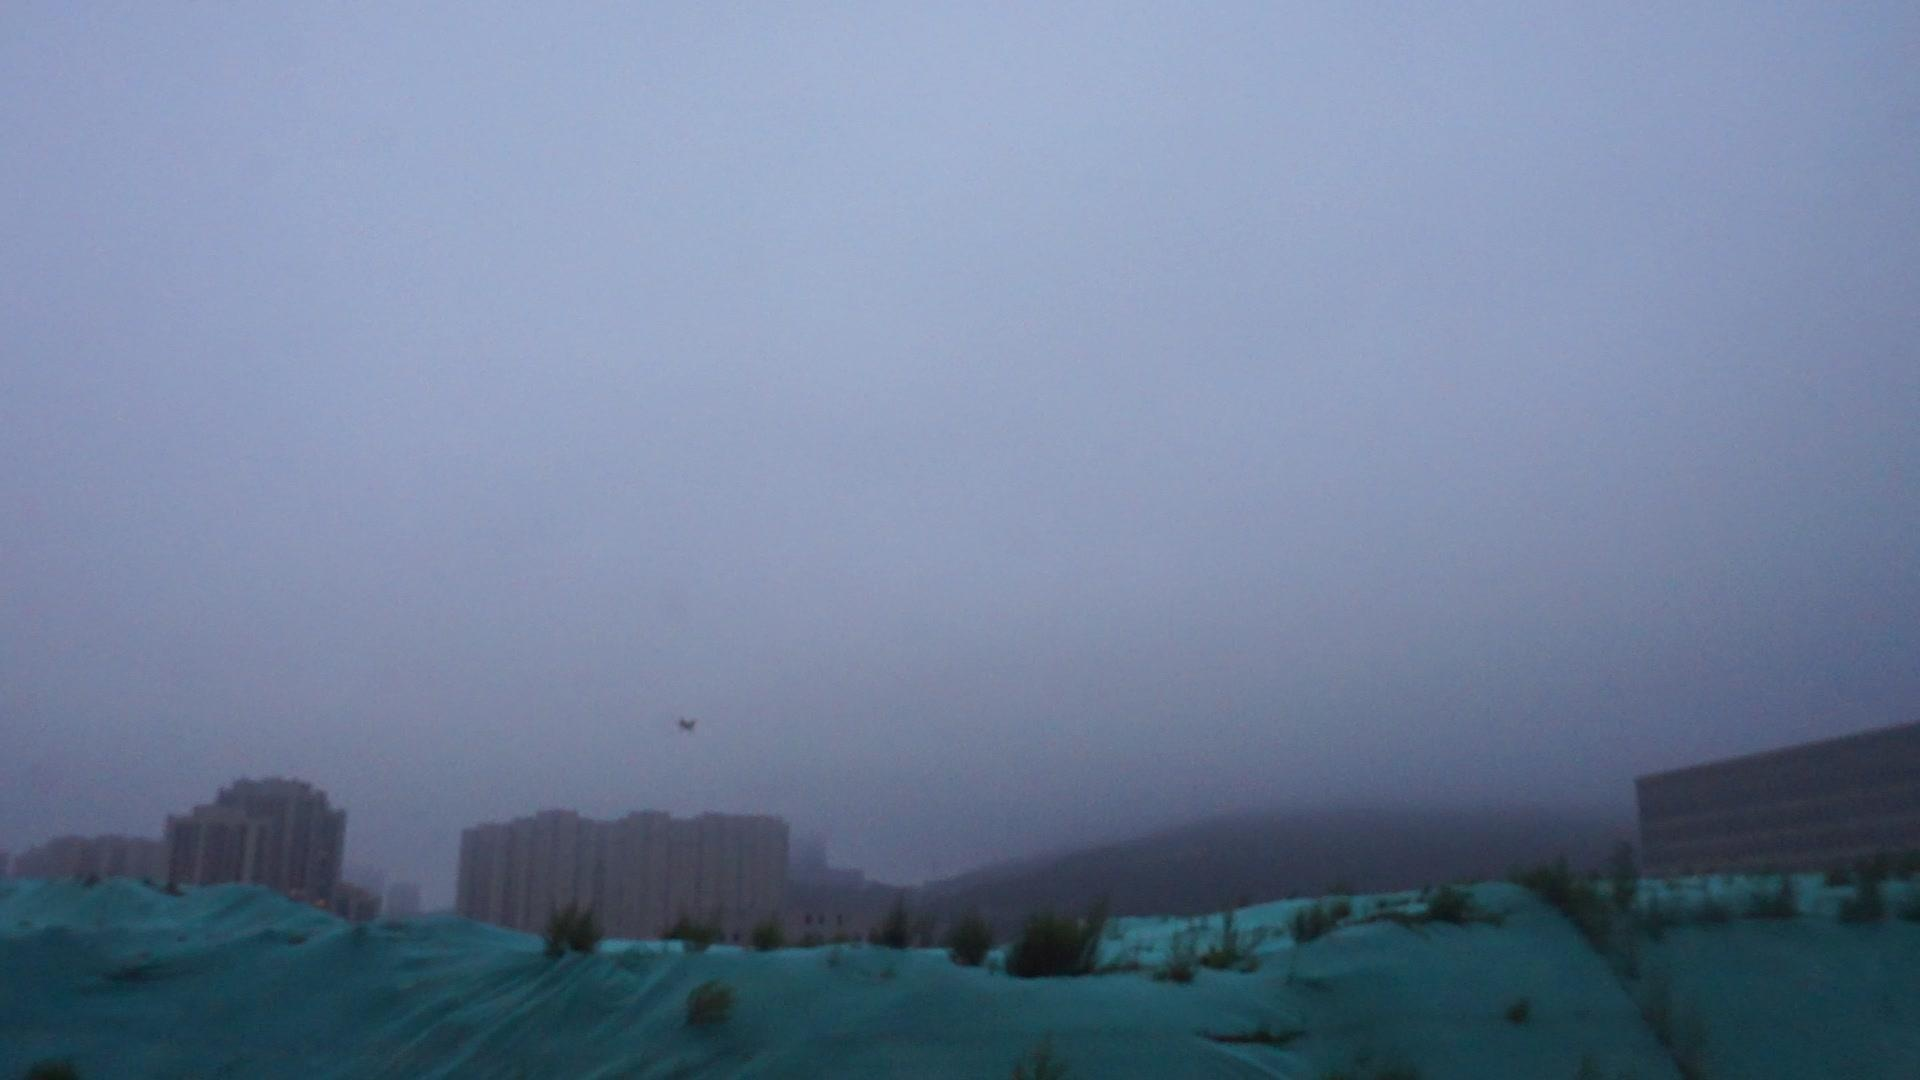UAV: (676, 717, 699, 733)
